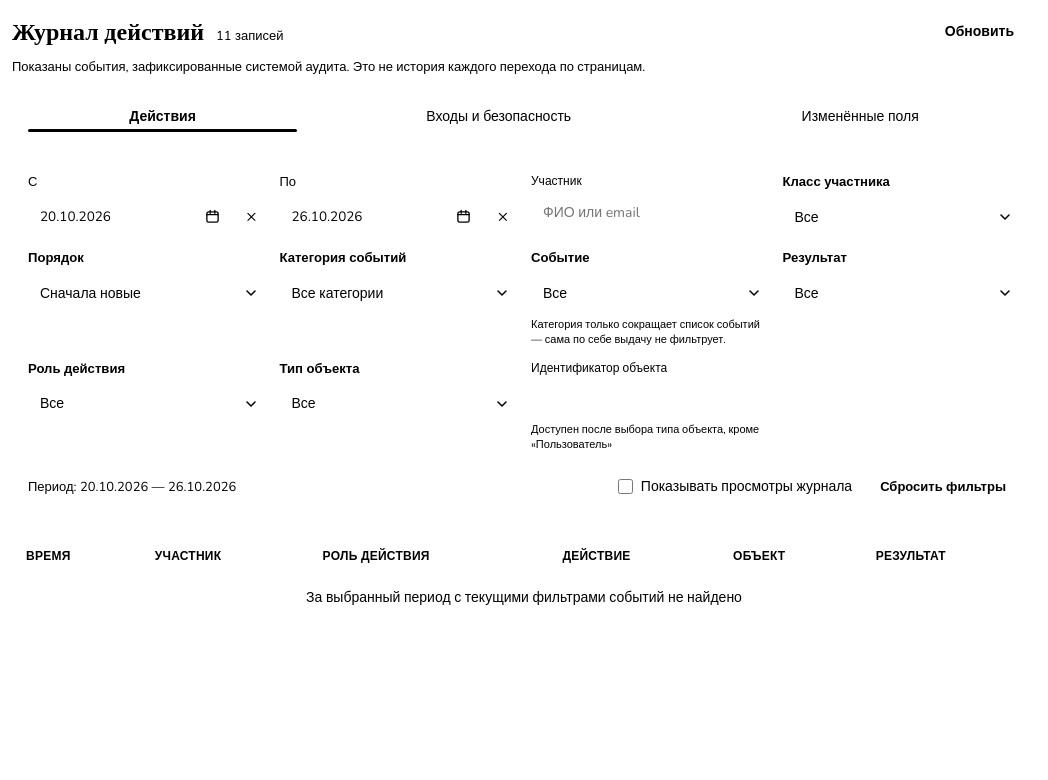
Test: вкладки бьют каждая в свой endpoint › переключение на «Входы и безопасность»
The width and height of the screenshot is (1048, 780).
Check: the table is shown, box x1=12 y1=536 x2=1036 y2=619
Click the tab "Входы и безопасность" at (499, 117), box x1=313 y1=99 x2=684 y2=135
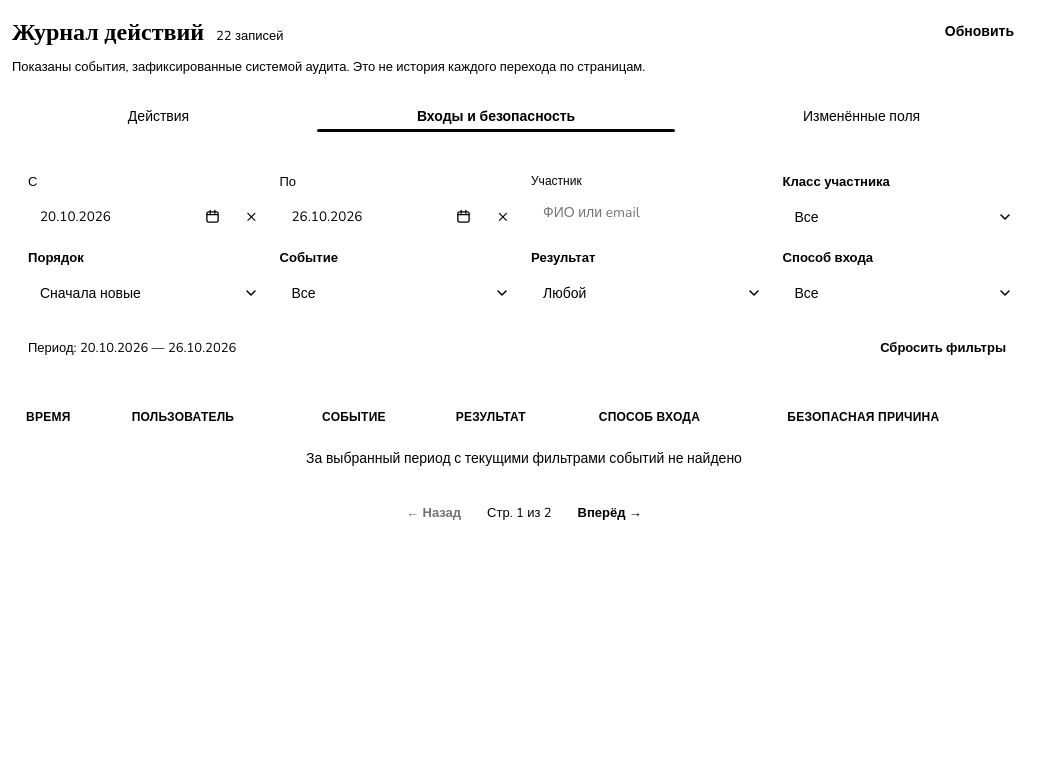
Check: the text "22 записей" is shown, box x1=216 y1=26 x2=284 y2=44
